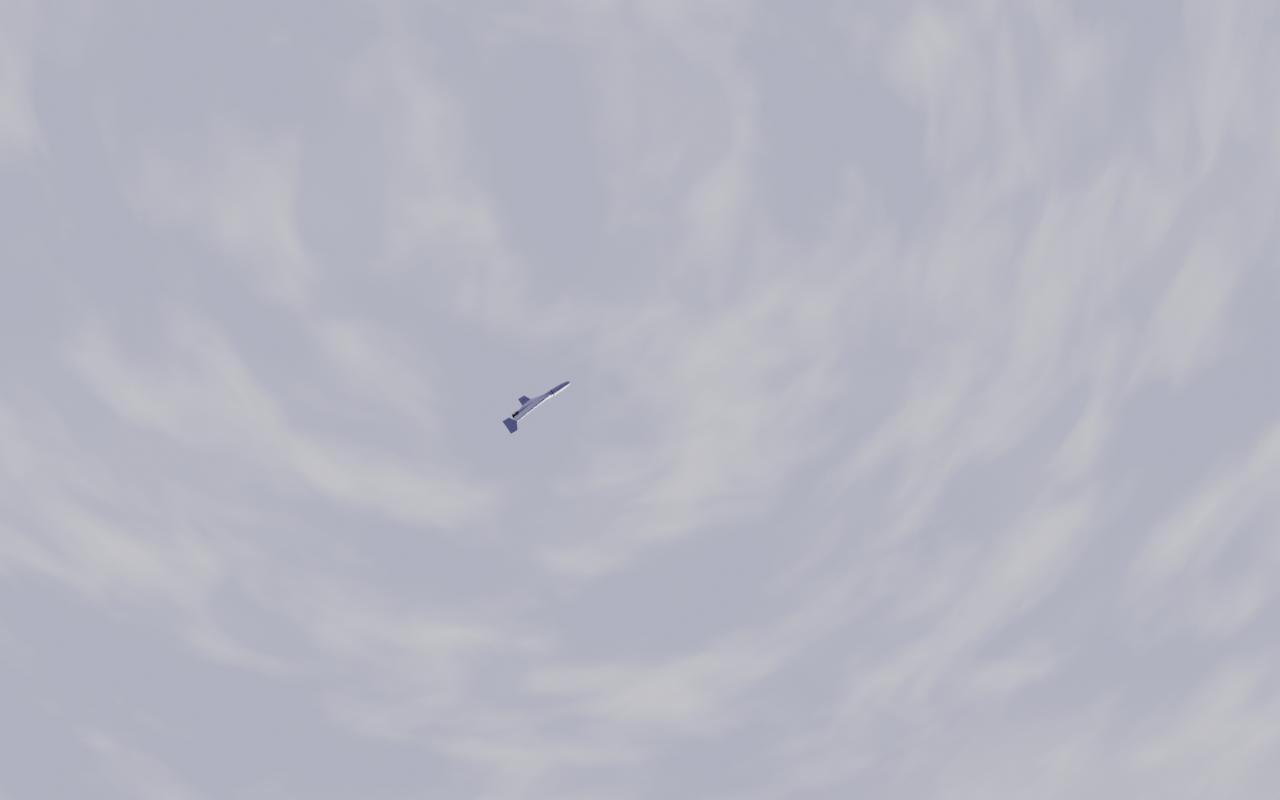shahed: (502, 381, 572, 435)
